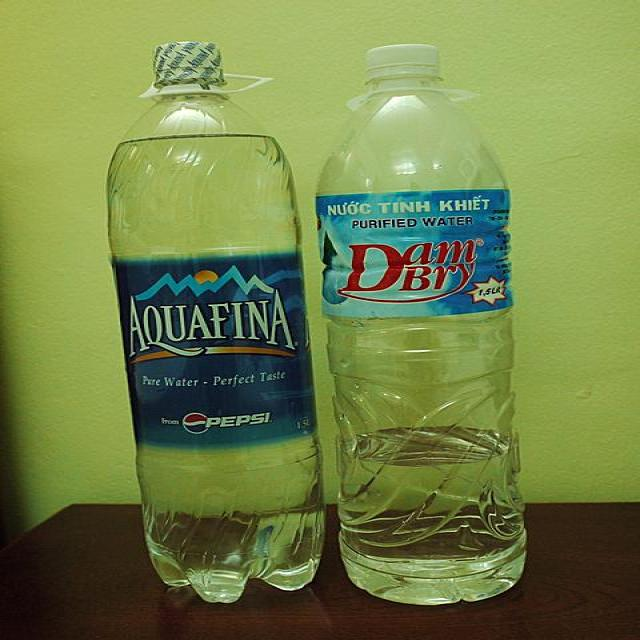plastic: (108, 40, 326, 602), (320, 44, 536, 604)
